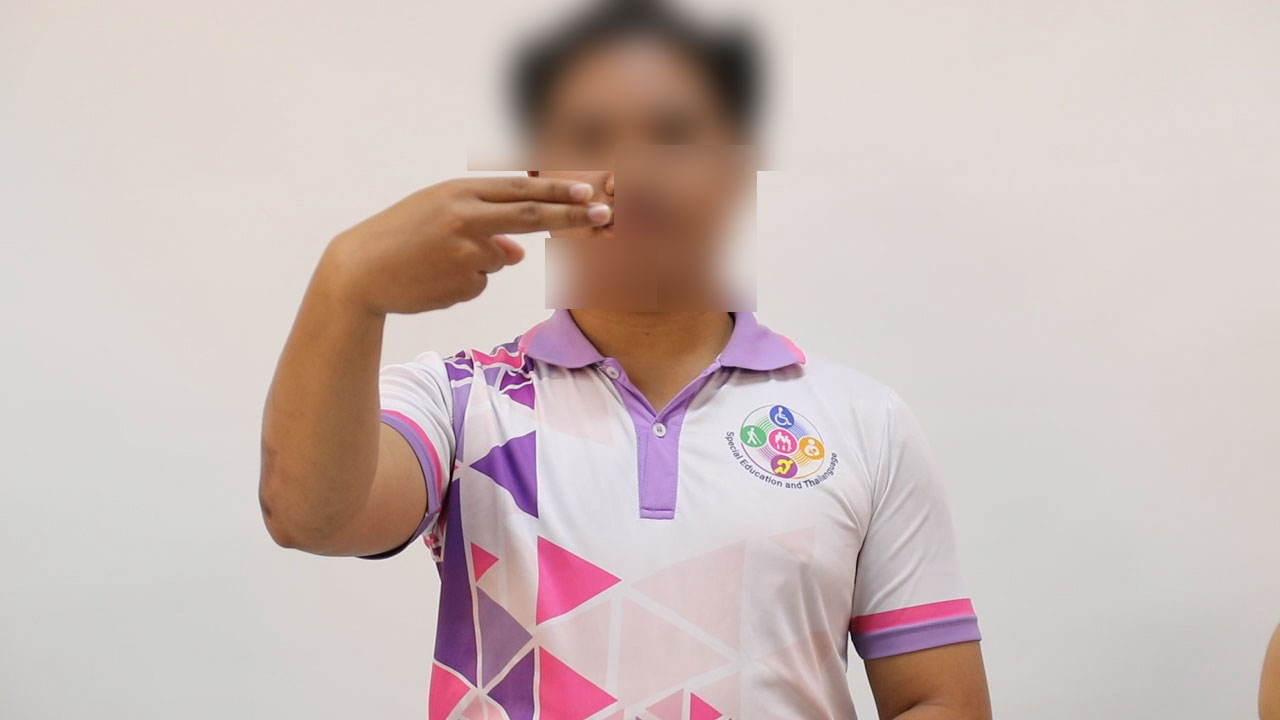hor: (306, 163, 623, 325)
